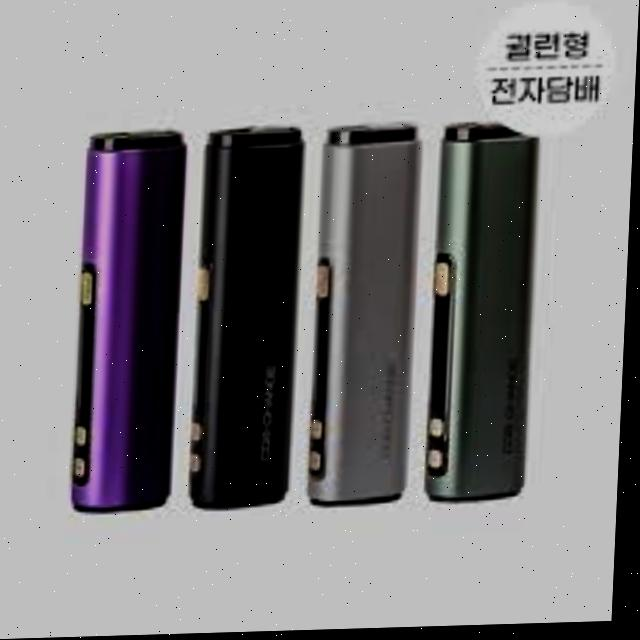vape: (190, 125, 307, 511), (75, 131, 190, 516), (310, 129, 425, 508), (430, 125, 541, 504)
